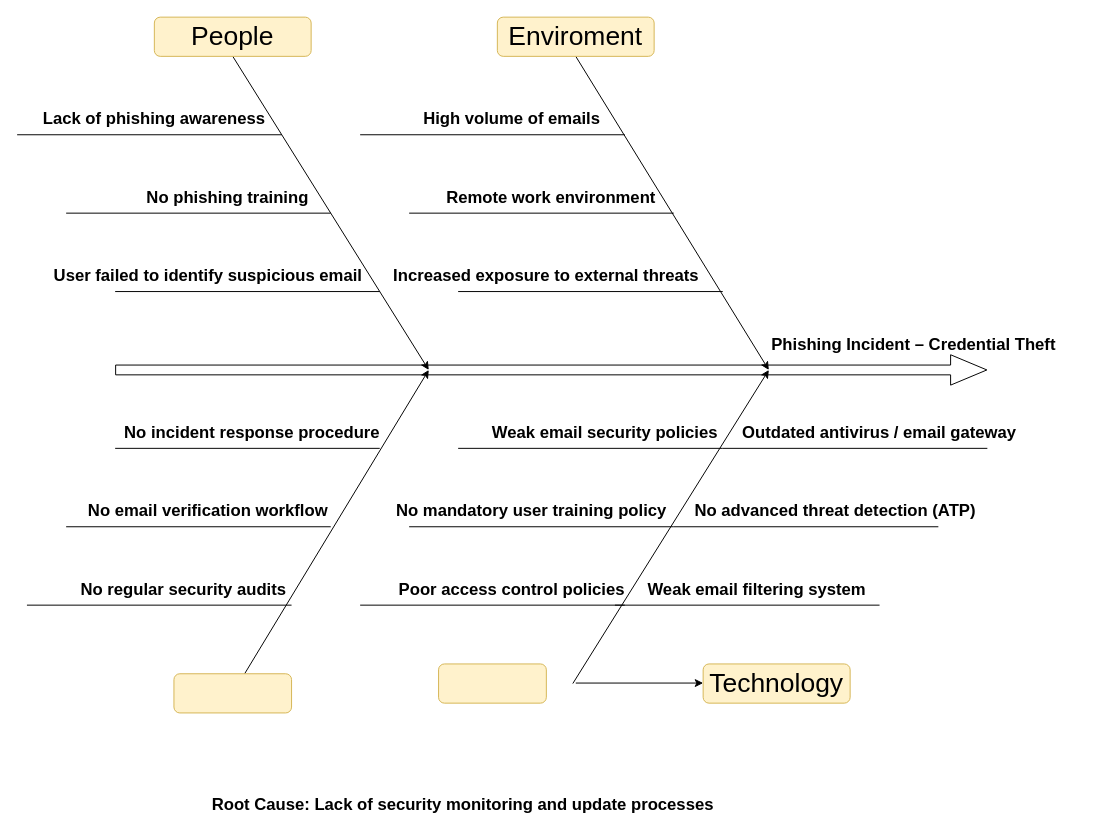
The diagram is 1112 pixels wide and 838 high, and some of its shapes have lost their labels. The shapes that lost their labels are listed below. From the top down, each one's box as (x1, y1, x2, y2) in pixels, then its label:
(173, 673, 292, 713): Process
(438, 663, 546, 703): Policy
